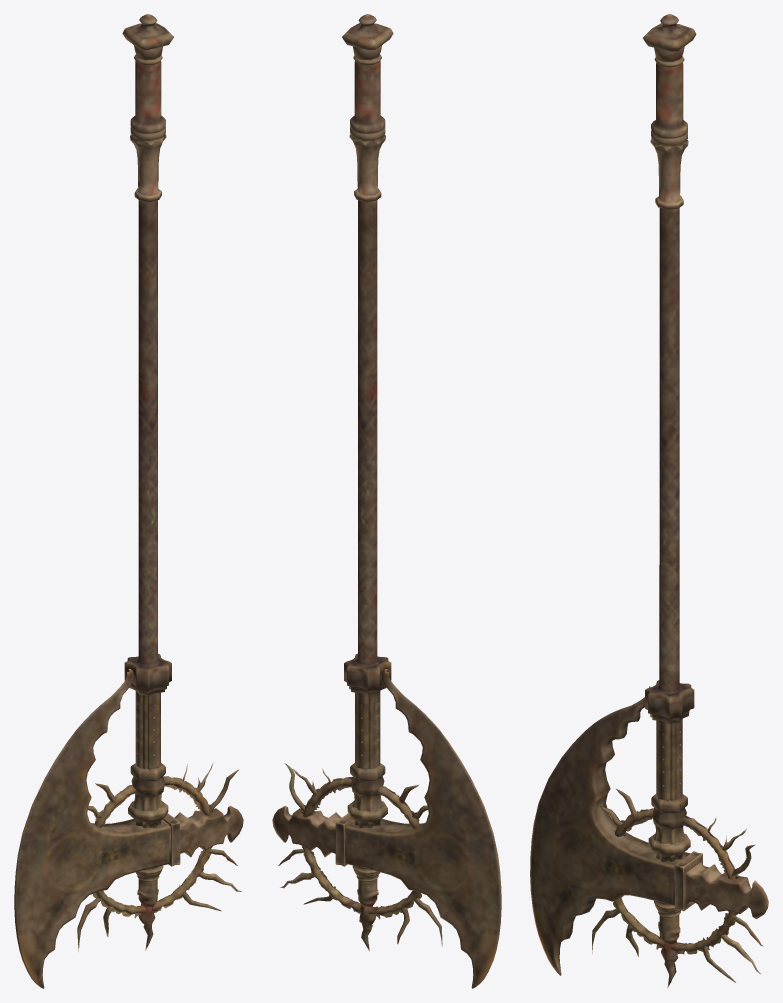
Rendered from weapon-wp_a_1024.glb.
3 renders of one model, left to right at view 1: azimuth 30°, elevation 25°; view 2: azimuth 150°, elevation 25°; view 3: azimuth 330°, elevation 25°, orthographic. The views are drawn at different scales.
Parts seen in each view (by area): view 1: wp_a_1024_mesh; view 2: wp_a_1024_mesh; view 3: wp_a_1024_mesh.
Part boxes in pixels (box(x1,y1,x2,y2)): wp_a_1024_mesh: box(14, 14, 243, 988); wp_a_1024_mesh: box(272, 14, 501, 988); wp_a_1024_mesh: box(530, 14, 768, 988).
Size of the model in its own units: 0.5418 by 2.14 by 0.0885.
Materials: 2 (2 with a texture image).
